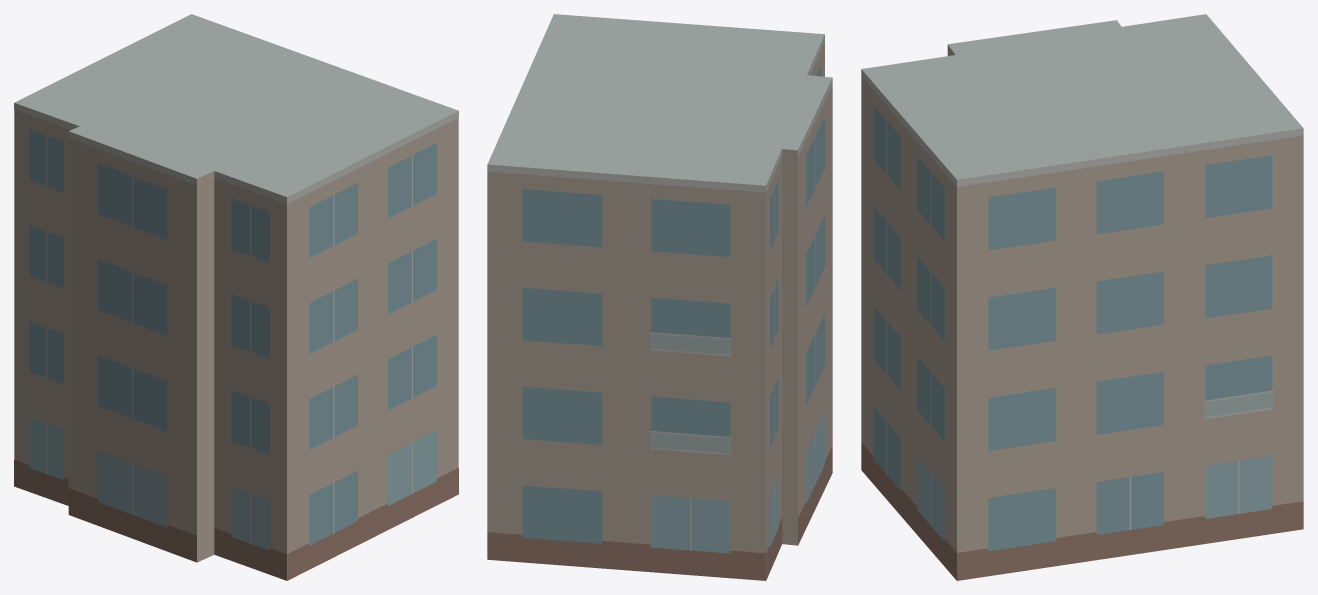
File: survey-upis-32853002.glb
3 renders of one model, left to right at view 1: azimuth 30°, elevation 25°; view 2: azimuth 150°, elevation 25°; view 3: azimuth 270°, elevation 25°, orthographic. The views are drawn at different scales.
Parts seen in each view (by area): view 1: survey-upis-32853002.tmp; view 2: survey-upis-32853002.tmp; view 3: survey-upis-32853002.tmp.
Part boxes in pixels (x1,y1,x2,y2): survey-upis-32853002.tmp: (14,14,458,580); survey-upis-32853002.tmp: (487,14,832,580); survey-upis-32853002.tmp: (861,14,1303,580).
Size of the model in its own units: 12.17 by 13.7 by 13.71.
